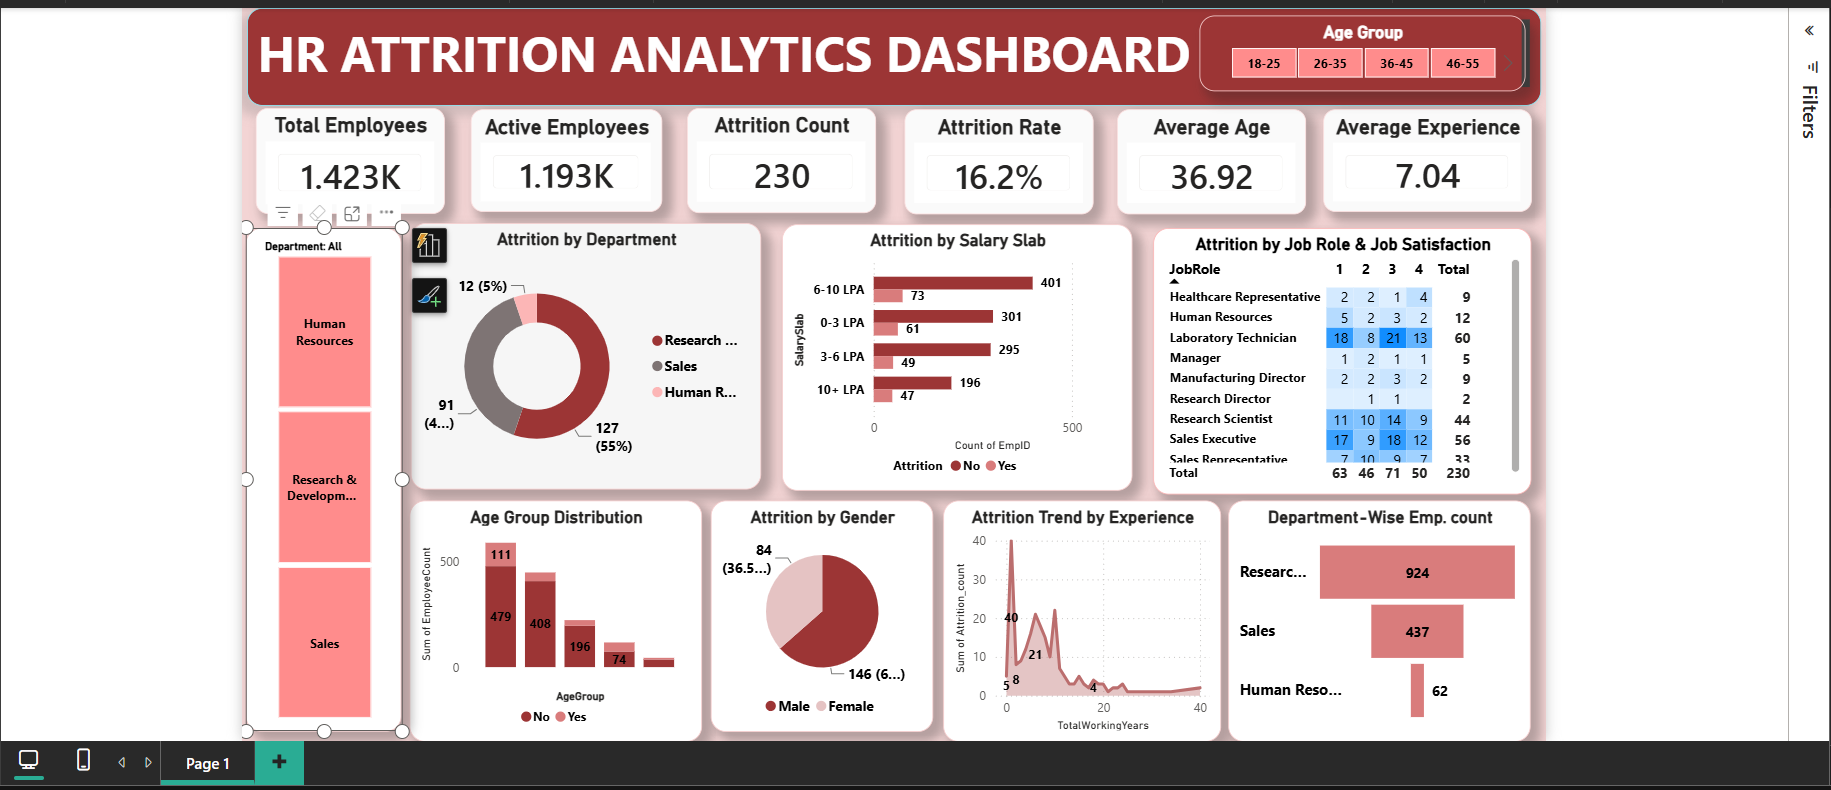

Layout of this report page (visuals, bound fields, positions):
{"tool":"powerbi","page":{"name":"Page 1","canvas":[1280,720],"ordinal":0},"visuals":[{"type":"textbox","box":[5,0,1270.1,95.8],"z":0},{"type":"cardVisual","title":"Total Employees","fields":{"Data":["CountNonNull(HR.EmpID)"]},"box":[13.5,98.2,185.3,104.3],"z":2000},{"type":"cardVisual","title":"Attrition Count","fields":{"Data":["Sum(HR.Att)"]},"box":[436.8,98.2,185.3,103.1],"z":3000},{"type":"cardVisual","title":"Active Employees","fields":{"Data":["CountNonNull(HR.EmployeeCount)"]},"box":[224.5,99.4,187.7,100.6],"z":4000},{"type":"cardVisual","title":"Attrition Rate","fields":{"Data":["HR.Attrition Rate %"]},"box":[650.3,99.4,185.3,103.1],"z":5000},{"type":"cardVisual","title":"Average Age","fields":{"Data":["Avg(HR.Age)"]},"box":[858.9,99.4,185.3,103.1],"z":6000},{"type":"cardVisual","title":"Average Experience","fields":{"Data":["Avg(HR.YearsAtCompany)"]},"box":[1061.4,99.4,204.9,100.6],"z":7000},{"type":"donutChart","title":"Attrition by Department","fields":{"Category":["HR.Department"],"Y":["Sum(HR.Attrition_count)"]},"box":[165.7,211.4,344.3,261.4],"z":8000},{"type":"clusteredBarChart","title":"Attrition by Salary Slab","fields":{"Category":["HR.SalarySlab"],"Series":["HR.Attrition"],"Y":["CountNonNull(HR.EmpID)"]},"box":[530,212.9,344.3,261.4],"z":9000},{"type":"pivotTable","title":"Attrition by Job Role & Job Satisfaction","fields":{"Columns":["HR.JobSatisfaction"],"Rows":["HR.JobRole"],"Values":["Sum(HR.Attrition_count)"]},"box":[894.3,215.7,371.4,261.4],"z":10000},{"type":"columnChart","title":" Age Group Distribution","fields":{"Category":["HR.AgeGroup"],"Series":["HR.Attrition"],"Y":["Sum(HR.EmployeeCount)"]},"box":[164.3,482.9,287.1,237.1],"z":11000},{"type":"pieChart","title":"Attrition by Gender","fields":{"Category":["HR.Gender"],"Y":["Sum(HR.Attrition_count)"]},"box":[460.1,483.4,218.4,227],"z":12000},{"type":"stackedAreaChart","title":"Attrition Trend by Experience","fields":{"Category":["HR.TotalWorkingYears"],"Y":["Sum(HR.Attrition_count)"]},"box":[688.6,482.9,272.9,237.1],"z":13000},{"type":"funnel","title":"Department-Wise Emp. count","fields":{"Category":["HR.Department"],"Y":["CountNonNull(HR.EmpID)"]},"box":[968.6,482.9,297.1,237.1],"z":14000},{"type":"slicer","fields":{"Values":["HR.Department"]},"box":[4.3,215.7,152.9,494.3],"z":15000},{"type":"slicer","title":"Age Group","fields":{"Values":["HR.AgeGroup"]},"box":[940,7.1,320,74.3],"z":16000}]}

Visuals, with their boxes on the page's 1280x720 design canvas (x1, y1, x2, y2). These are canvas units, not pixel positions in the 1831x790 screenshot, which may show the page scaled, cropped or inside an application window:
textbox: [left=5, top=0, right=1275, bottom=96]
"Total Employees" cardVisual: [left=14, top=98, right=199, bottom=202]
"Attrition Count" cardVisual: [left=437, top=98, right=622, bottom=201]
"Active Employees" cardVisual: [left=224, top=99, right=412, bottom=200]
"Attrition Rate" cardVisual: [left=650, top=99, right=836, bottom=202]
"Average Age" cardVisual: [left=859, top=99, right=1044, bottom=202]
"Average Experience" cardVisual: [left=1061, top=99, right=1266, bottom=200]
"Attrition by Department" donutChart: [left=166, top=211, right=510, bottom=473]
"Attrition by Salary Slab" clusteredBarChart: [left=530, top=213, right=874, bottom=474]
"Attrition by Job Role & Job Satisfaction" pivotTable: [left=894, top=216, right=1266, bottom=477]
" Age Group Distribution" columnChart: [left=164, top=483, right=451, bottom=720]
"Attrition by Gender" pieChart: [left=460, top=483, right=678, bottom=710]
"Attrition Trend by Experience" stackedAreaChart: [left=689, top=483, right=962, bottom=720]
"Department-Wise Emp. count" funnel: [left=969, top=483, right=1266, bottom=720]
slicer - HR.Department: [left=4, top=216, right=157, bottom=710]
"Age Group" slicer: [left=940, top=7, right=1260, bottom=81]
